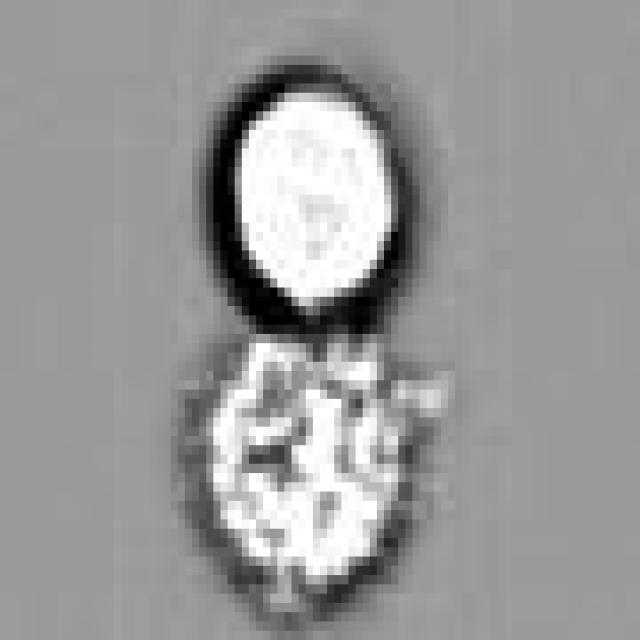Cancer Cell: (228, 83, 391, 297)
WBC: (192, 324, 405, 594)
